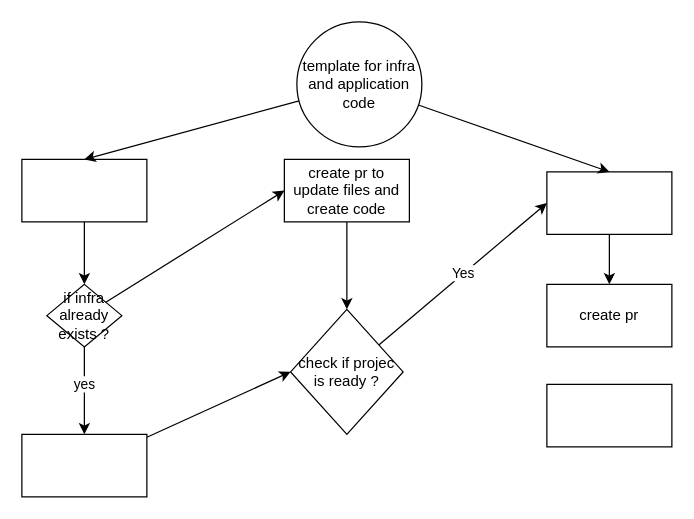
The diagram is 694 pixels wide and 519 high, and some of its shapes have lost their labels. The shapes that lost their labels are listed below. From the top down, each one's centre as x and y in pixels, then its label:
(84,190): infra code gen
(609,202): application code gen
(84,465): skip infra creation
